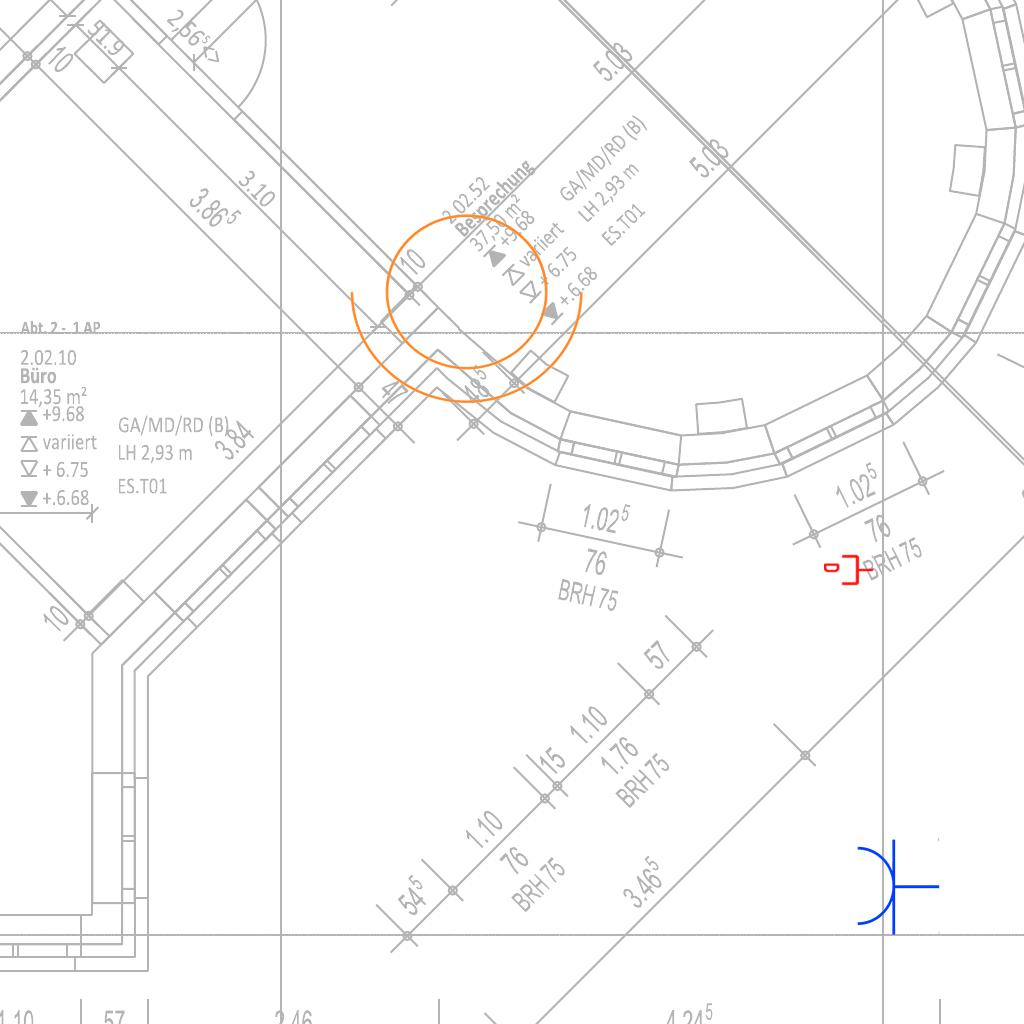Datenanschluss_einfach: (824, 553, 874, 587)
Scheinwerfer_fuer_Alarmbeleuchtung: (341, 189, 605, 414)
Schukosteckdose_einfach: (853, 836, 940, 936)
